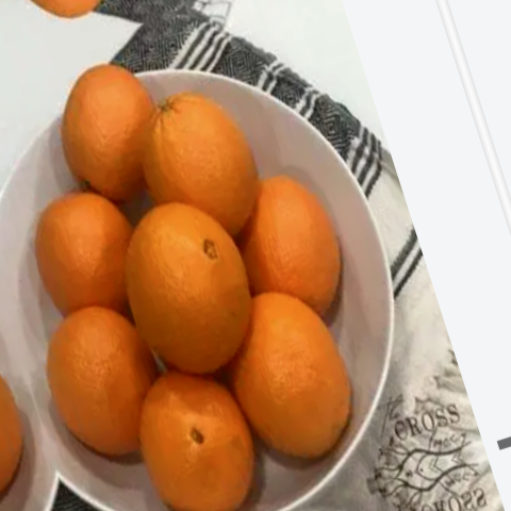orange: (99, 181, 276, 389), (200, 268, 370, 479), (194, 140, 376, 332), (10, 286, 181, 474), (109, 337, 274, 511), (36, 44, 184, 208)
